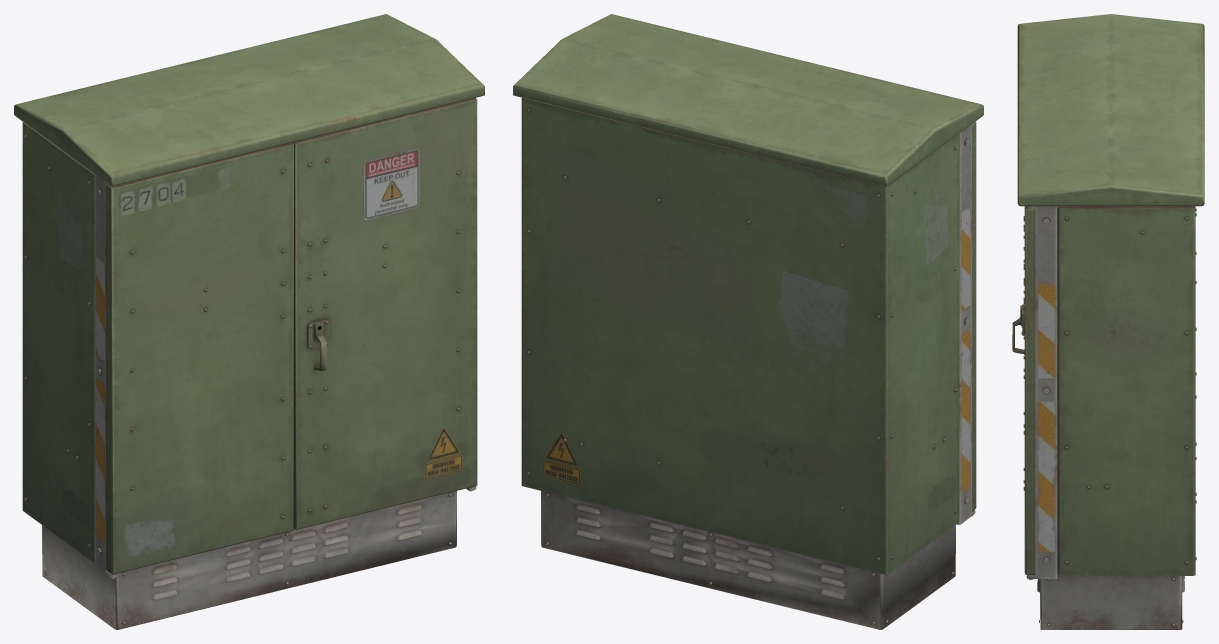
Rendered from utility_box_02.glb.
3 renders of one model, left to right at view 1: azimuth 30°, elevation 25°; view 2: azimuth 150°, elevation 25°; view 3: azimuth 270°, elevation 25°, orthographic. The views are drawn at different scales.
Parts seen in each view (by area): view 1: utility_box_02; view 2: utility_box_02; view 3: utility_box_02.
Part boxes in pixels (<box>): utility_box_02: <box>14,14,484,629</box>; utility_box_02: <box>513,14,983,629</box>; utility_box_02: <box>1012,14,1204,629</box>.
Bounding box in the file's own units: 0.92 × 1.12 × 0.432.
Materials: 1 (1 with a texture image).
